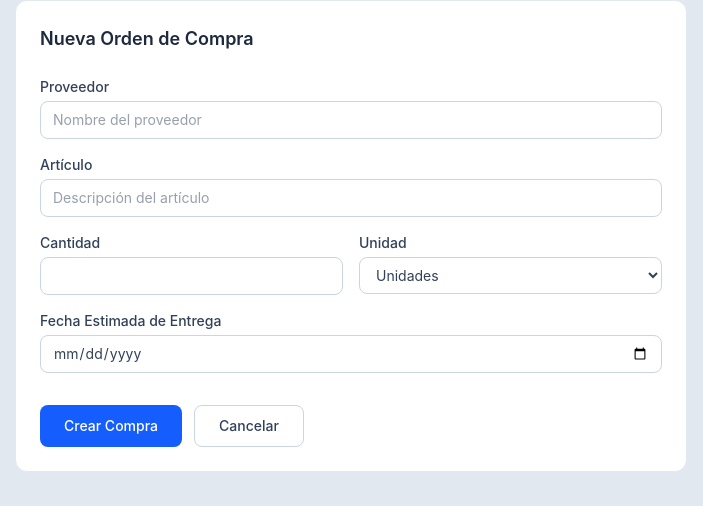
Test case: PurchaseForm page › shows error message on mutation failure
Type "Test" into the field with placeholder "Nombre del proveedor" at (351, 120), box [40,101,662,139]
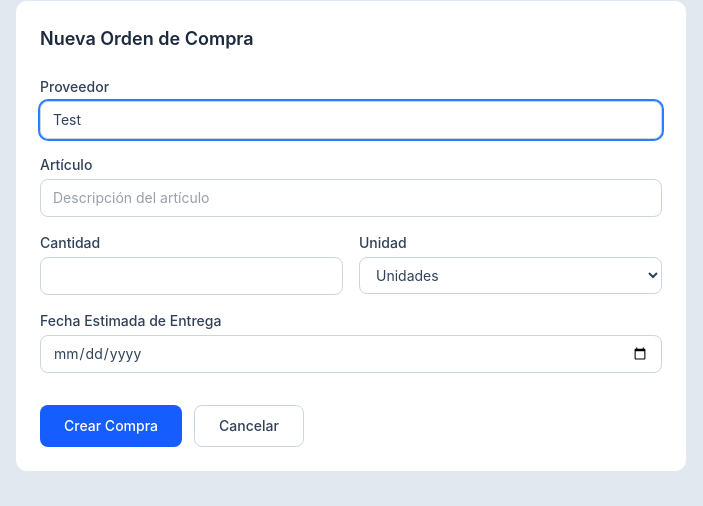
Type "Test" into the field with placeholder "Descripción del artículo" at (351, 198), box [40,179,662,217]
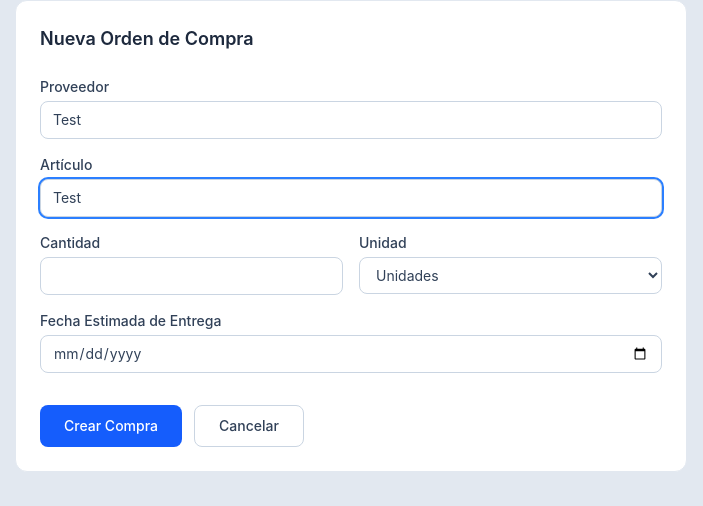
Type "3" into the number field at (192, 276), box [40,257,343,295]
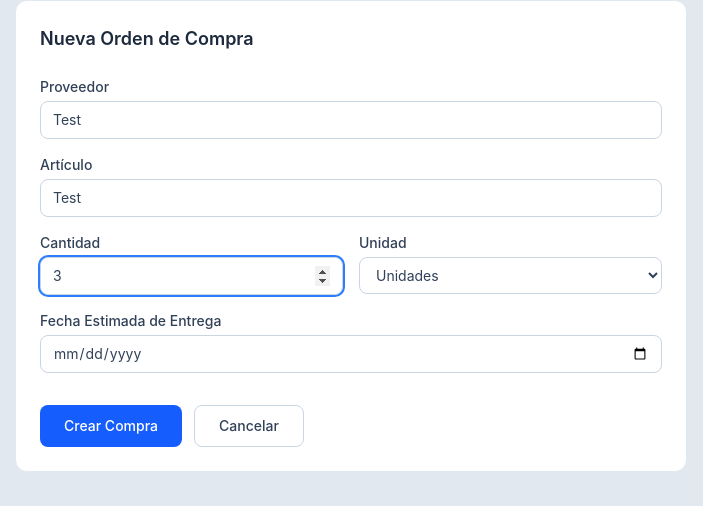
Click the button "Crear Compra" at (111, 426), box [40,405,182,447]
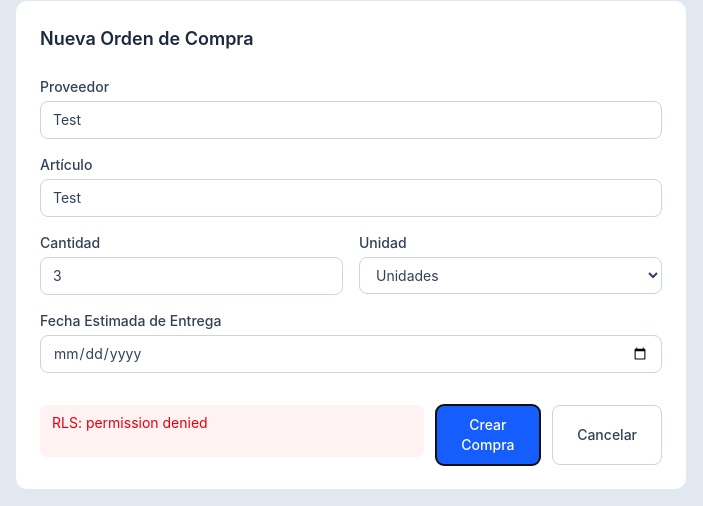
expect the text "RLS: permission denied" is shown: met, box [40,405,424,457]
